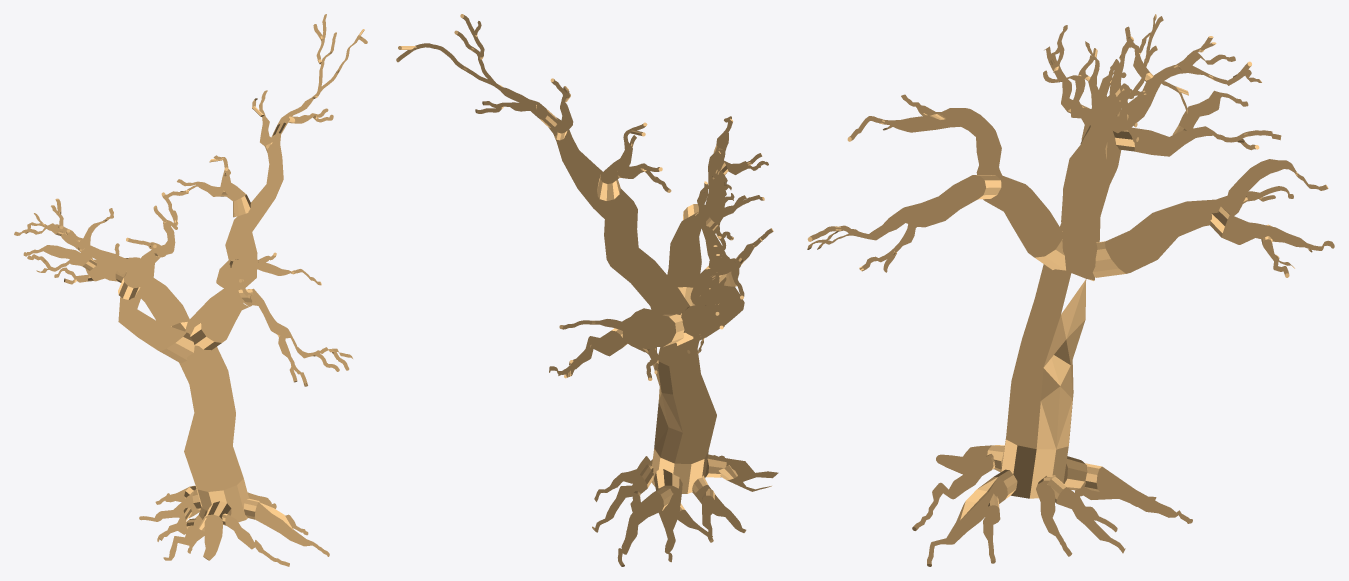
File: Dead Tree.glb
The picture shows the model from 3 angles, left to right: view 1: azimuth 30°, elevation 25°; view 2: azimuth 150°, elevation 25°; view 3: azimuth 270°, elevation 25°; orthographic projection. The views are drawn at different scales.
Parts seen in each view (by area): view 1: Node; view 2: Node; view 3: Node.
Boxes of the visible parts, x1=… form: Node: x1=14, y1=14, x2=367, y2=566; Node: x1=396, y1=14, x2=778, y2=566; Node: x1=807, y1=14, x2=1334, y2=566.
Size of the model in its own units: 1 by 1.31 by 1.03.
